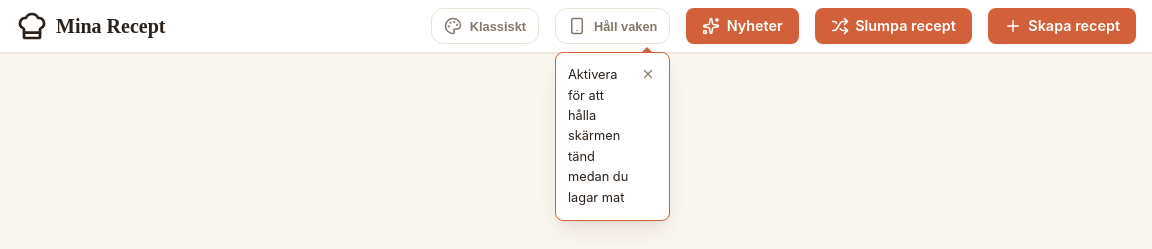
Scenario: Header › wake lock button › should toggle wake lock and dismiss tooltip when button is clicked
Click the button with aria-label "håll skärmen vaken" at (613, 26), box [555, 8, 670, 44]
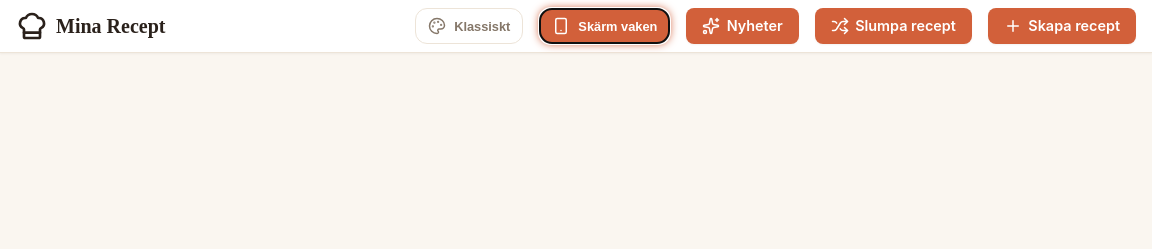
Expected: the text "Aktivera för att hålla skärmen tänd" is gone
